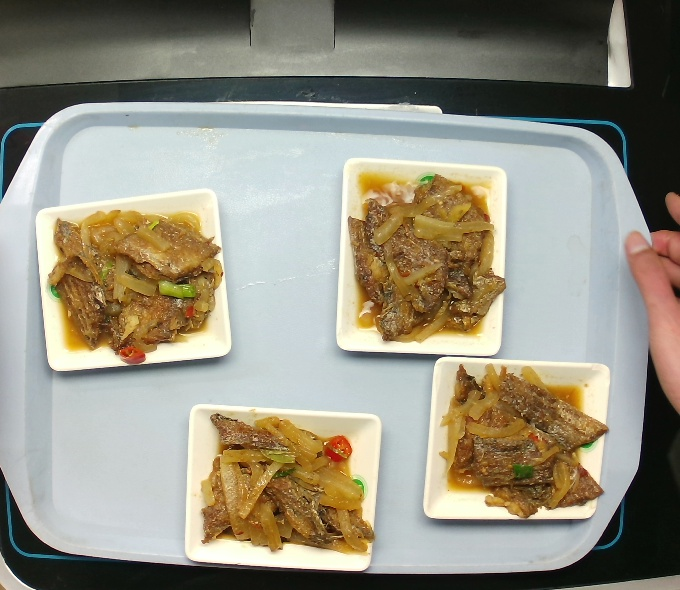wcq-DaiYu: (41, 198, 231, 369), (345, 168, 508, 345), (437, 359, 608, 520), (187, 410, 374, 556)
